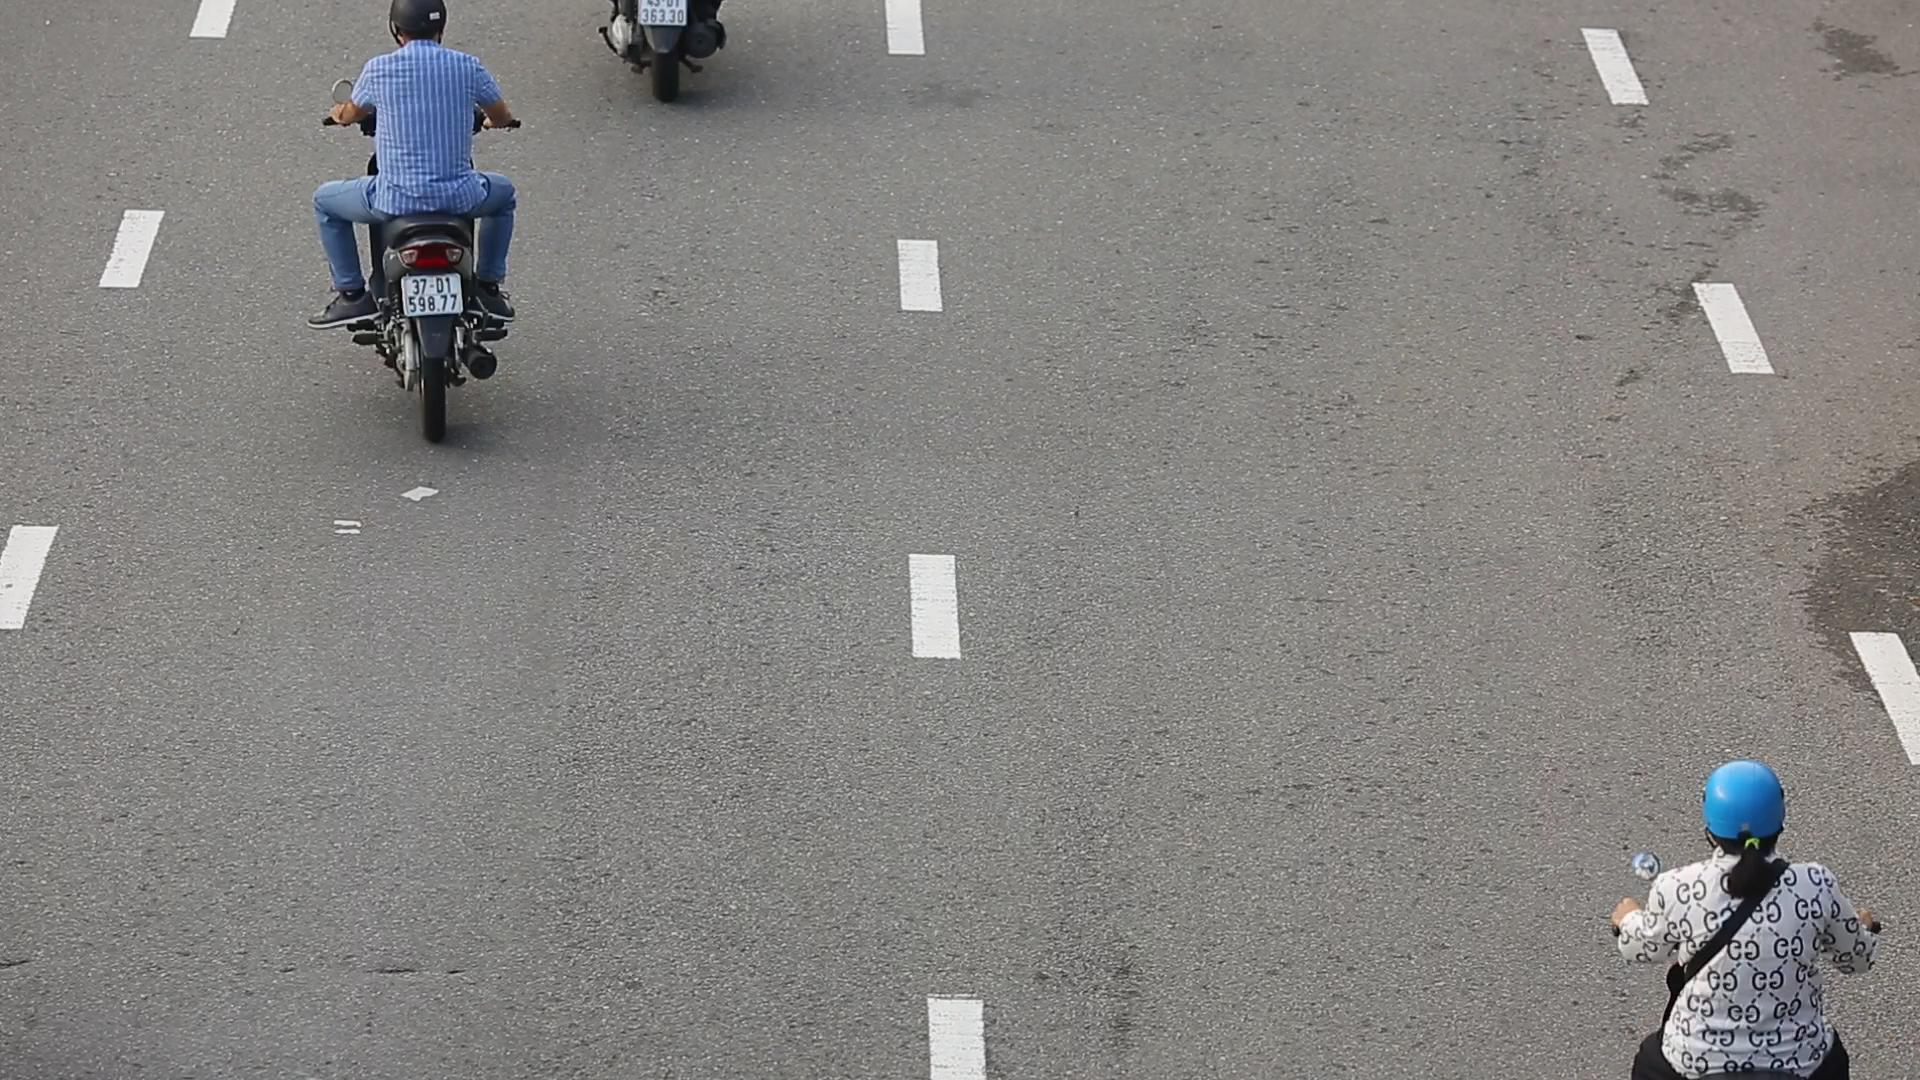motobike: (311, 0, 531, 446)
